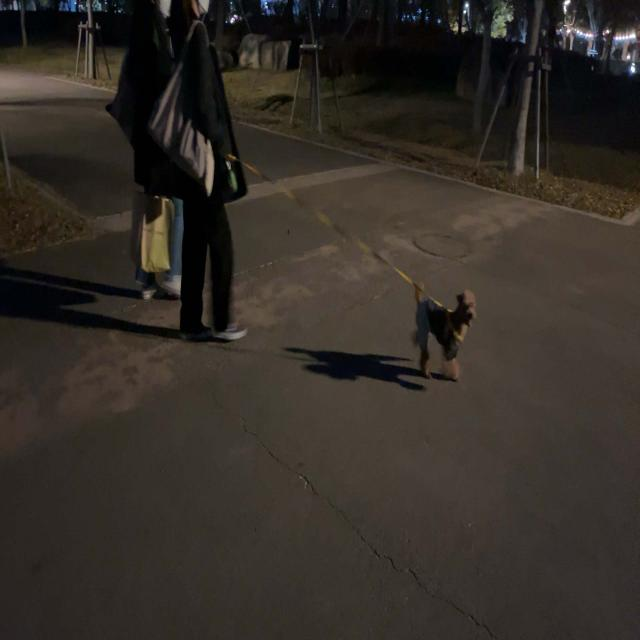Leashed_Dog: (210, 146, 475, 380)
